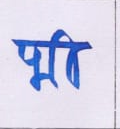i_matra: (56, 30, 84, 88)
